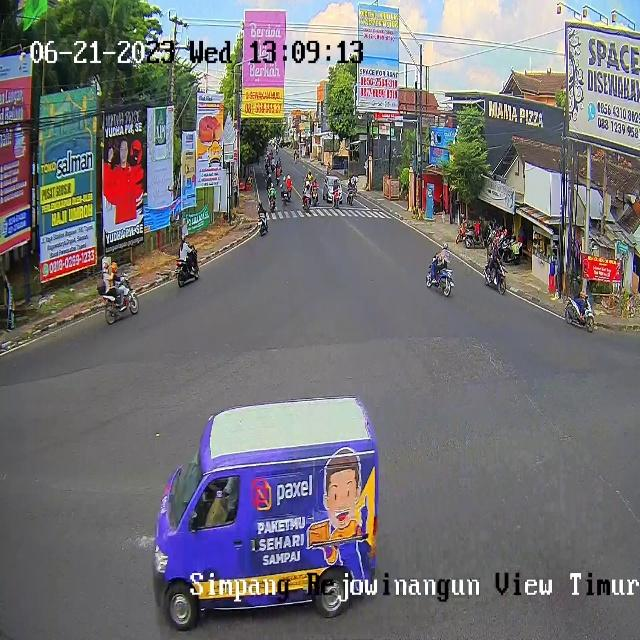bus: (102, 275, 140, 324), (427, 253, 454, 296), (565, 294, 595, 332), (176, 245, 199, 288), (484, 259, 506, 294), (256, 210, 268, 235), (302, 192, 311, 212), (333, 187, 340, 208), (268, 194, 276, 212), (348, 184, 354, 204), (282, 190, 288, 206), (313, 188, 318, 204), (288, 186, 292, 202)
motorcycle: (156, 396, 378, 634), (323, 176, 343, 202)
